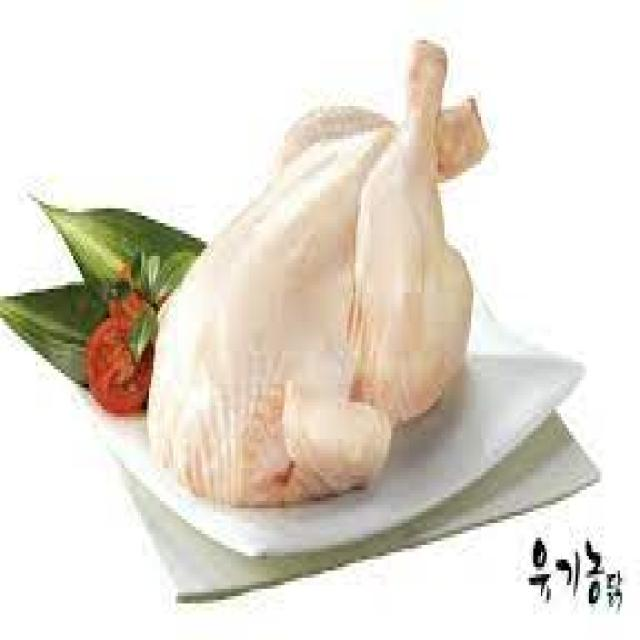chicken: (145, 35, 488, 510)
